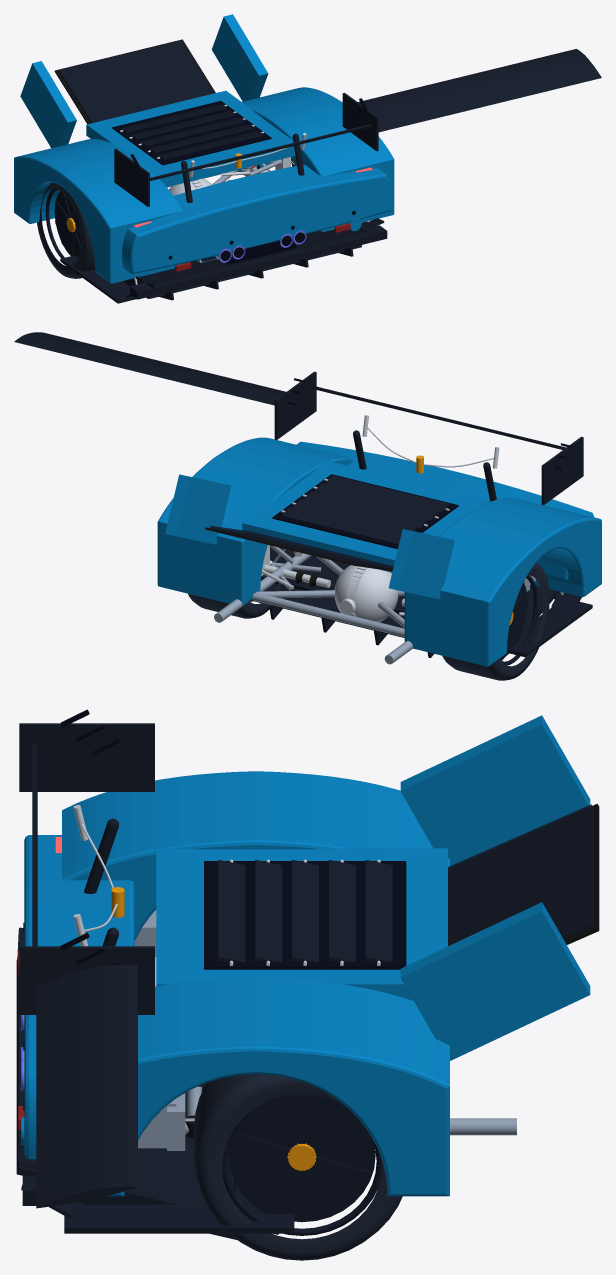
File: rear_car_assembly_complete.glb
3 renders of one model, top to bottom at view 1: azimuth 30°, elevation 25°; view 2: azimuth 150°, elevation 25°; view 3: azimuth 270°, elevation 25°, orthographic. The views are drawn at different scales.
Visible parts, largest first — view 1: Sculpted_Rear_Bumper_Fascia, Sculpted_Fender_Haunch_LH, Cambered_Main_Airfoil_Element, Tinted_Rear_Backlite_Glass, Sculpted_Fender_Haunch_RH, Rear_Trunk_Decklid, Engine_Deck_Louver_Recess_Frame, Fastback_C_Pillar_Buttress_LH, Fastback_C_Pillar_Buttress_RH, Venturi_Expansion_Tray_Primary, Bumper_Integrated_Lower_Lip_Splitter, 335_Compound_Tire_LH (+13 smaller); view 2: Sculpted_Fender_Haunch_LH, Sculpted_Fender_Haunch_RH, Rear_Trunk_Decklid, Cambered_Main_Airfoil_Element, Sculpted_Rear_Bumper_Fascia, Fastback_C_Pillar_Buttress_LH, Fastback_C_Pillar_Buttress_RH, Transaxle_Differential_Housing, Venturi_Expansion_Tray_Primary, 335_Compound_Tire_LH, Aero_Endplate_LH, Aero_Endplate_RH (+15 smaller); view 3: Sculpted_Fender_Haunch_RH, Sculpted_Fender_Haunch_LH, Cambered_Main_Airfoil_Element, Fastback_C_Pillar_Buttress_RH, Rear_Trunk_Decklid, Fastback_C_Pillar_Buttress_LH, Tinted_Rear_Backlite_Glass, 335_Compound_Tire_RH, Wheel_Face_Disc_RH, Sculpted_Rear_Bumper_Fascia, Aero_Endplate_LH, Engine_Deck_Louver_Recess_Frame (+15 smaller).
Boxes of the visible parts, x1,y1,x2,y2 form: Sculpted_Rear_Bumper_Fascia: [122, 164, 391, 273]; Sculpted_Fender_Haunch_LH: [14, 139, 182, 283]; Cambered_Main_Airfoil_Element: [358, 49, 601, 132]; Tinted_Rear_Backlite_Glass: [58, 40, 213, 123]; Sculpted_Fender_Haunch_RH: [238, 87, 394, 231]; Rear_Trunk_Decklid: [86, 90, 295, 186]; Engine_Deck_Louver_Recess_Frame: [112, 101, 271, 165]; Fastback_C_Pillar_Buttress_LH: [20, 61, 76, 148]; Fastback_C_Pillar_Buttress_RH: [211, 14, 268, 101]; Venturi_Expansion_Tray_Primary: [125, 229, 373, 288]; Bumper_Integrated_Lower_Lip_Splitter: [130, 225, 387, 299]; 335_Compound_Tire_LH: [37, 182, 95, 278]; Sculpted_Fender_Haunch_LH: [404, 497, 601, 666]; Sculpted_Fender_Haunch_RH: [157, 437, 354, 605]; Rear_Trunk_Decklid: [242, 461, 490, 572]; Cambered_Main_Airfoil_Element: [14, 332, 285, 405]; Sculpted_Rear_Bumper_Fascia: [296, 441, 594, 579]; Fastback_C_Pillar_Buttress_LH: [388, 529, 454, 599]; Fastback_C_Pillar_Buttress_RH: [165, 474, 231, 544]; Transaxle_Differential_Housing: [334, 565, 398, 622]; Venturi_Expansion_Tray_Primary: [254, 549, 559, 660]; 335_Compound_Tire_LH: [442, 563, 549, 680]; Aero_Endplate_LH: [541, 436, 583, 504]; Aero_Endplate_RH: [274, 371, 316, 439]; Sculpted_Fender_Haunch_RH: [106, 977, 449, 1196]; Sculpted_Fender_Haunch_LH: [62, 771, 449, 940]; Cambered_Main_Airfoil_Element: [36, 964, 137, 1208]; Fastback_C_Pillar_Buttress_RH: [400, 902, 590, 1060]; Rear_Trunk_Decklid: [156, 848, 447, 1000]; Fastback_C_Pillar_Buttress_LH: [400, 715, 590, 866]; Tinted_Rear_Backlite_Glass: [448, 804, 593, 946]; 335_Compound_Tire_RH: [194, 1074, 402, 1260]; Wheel_Face_Disc_RH: [228, 1095, 375, 1222]; Sculpted_Rear_Bumper_Fascia: [24, 835, 134, 1159]; Aero_Endplate_LH: [19, 723, 154, 791]; Engine_Deck_Louver_Recess_Frame: [204, 861, 406, 969].
Size of the model in its own units: 3.65 by 1.24 by 1.9.
